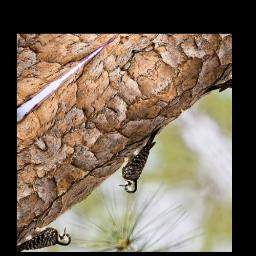Woodpecker: (102, 120, 185, 197)
